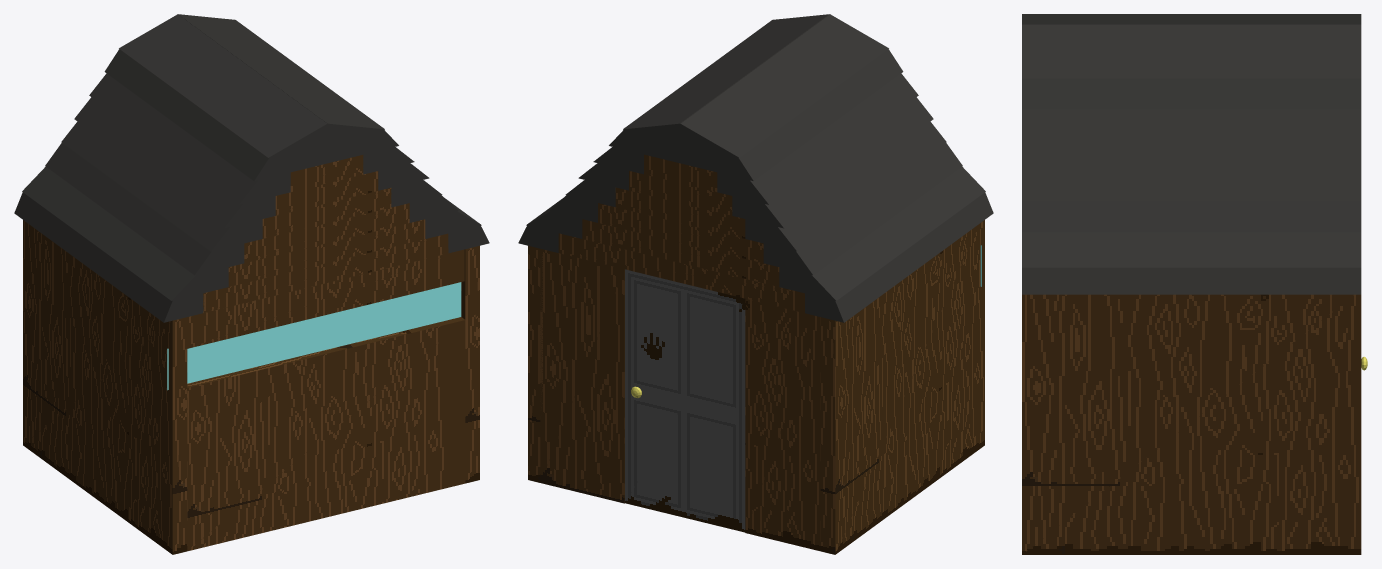
Rendered from shed.gltf.
3 views of the same model, side by side, from view 1: azimuth 30°, elevation 25°; view 2: azimuth 150°, elevation 25°; view 3: azimuth 270°, elevation 25° (orthographic). The views are drawn at different scales.
Visible parts, largest first — view 1: cube (×24), Roof, window; view 2: cube (×25), Roof; view 3: Roof, cube.
Part boxes in pixels (x1,y1,x2,y2): cube (×24): (23,130,480,554); Roof: (14,14,489,322); window: (167,282,461,390); cube (×25): (527,130,984,554); Roof: (518,14,993,322); Roof: (1022,14,1361,294); cube: (1022,294,1361,554).
Bounding box in the file's own units: 1.26 × 1.45 × 1.02.
6 materials, 6 textured.
